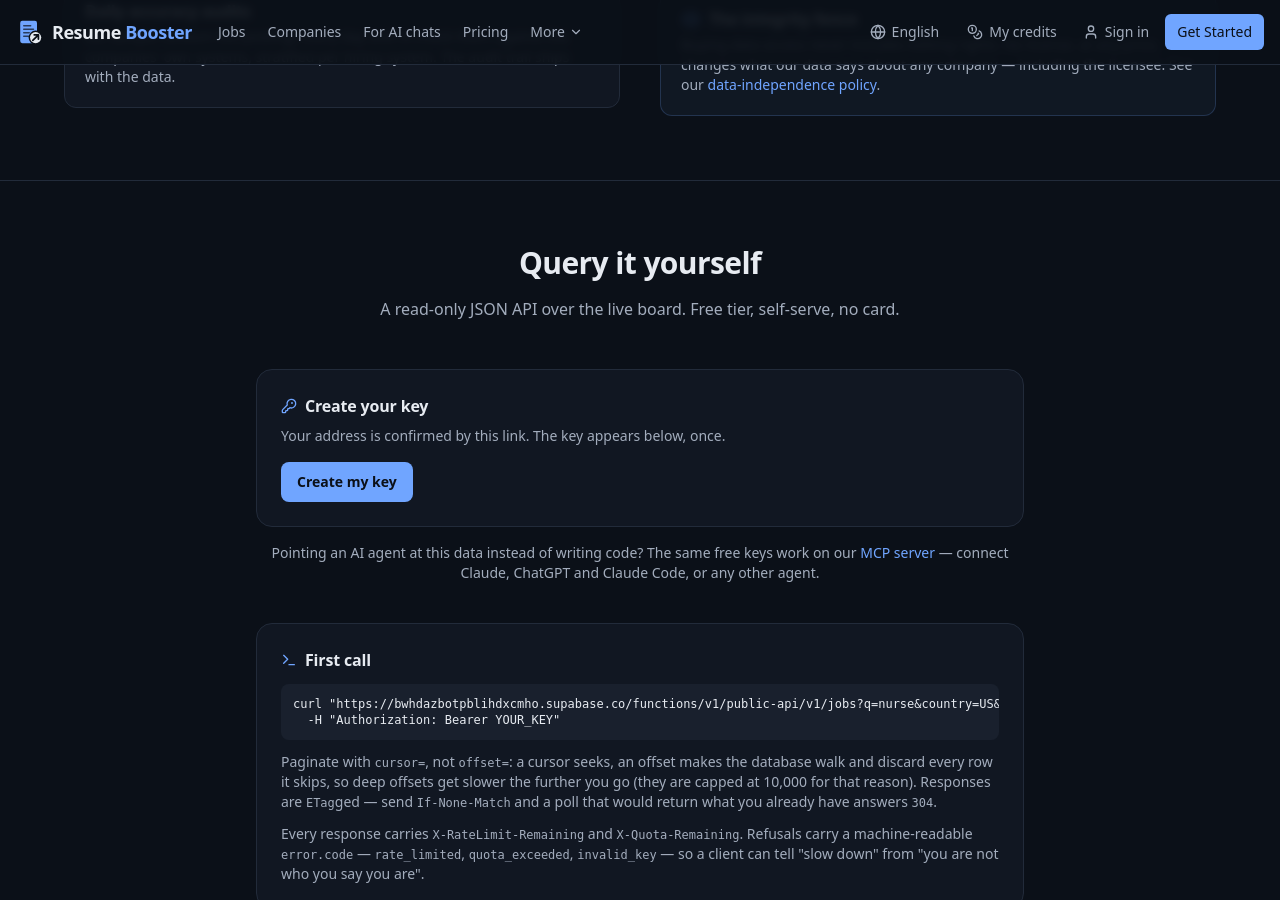
Test: /data-api: a key needs the mailbox, and the link needs a click › a spent link says so in the server's words and offers the form again
This screenshot has width=1280, height=900.
(page scrolled)
Step 1. Click the button "Create my key" → click(347, 482), box [281, 462, 413, 502]
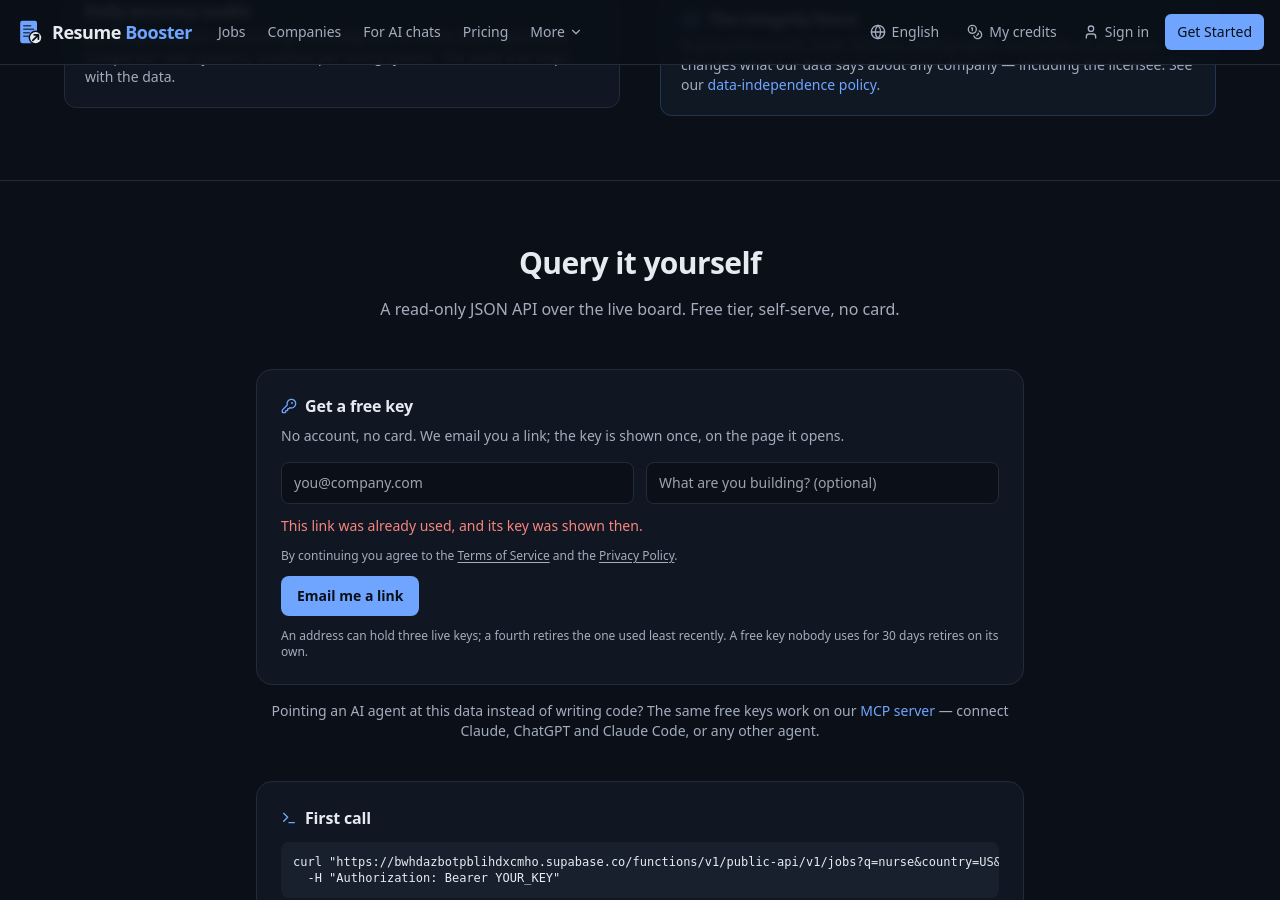
expect the text "This link was already used, and its key was shown then." is shown: met, box [281, 516, 643, 535]
expect the button "Email me a link" is shown: met, box [281, 576, 419, 616]
